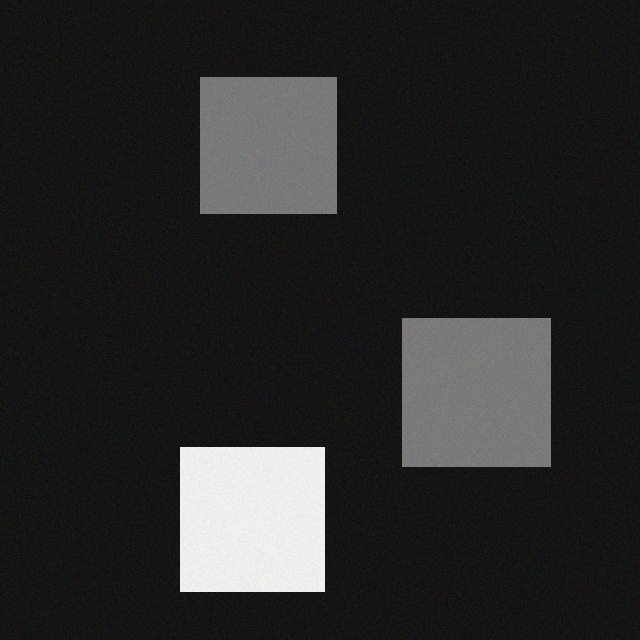square: (394, 319, 542, 467), (172, 448, 316, 592), (192, 78, 328, 214)
